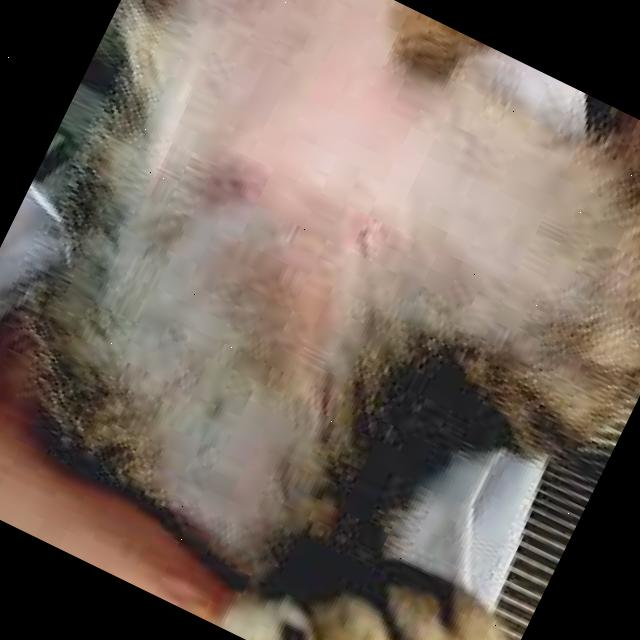cat-hairloss: (89, 44, 472, 539)
